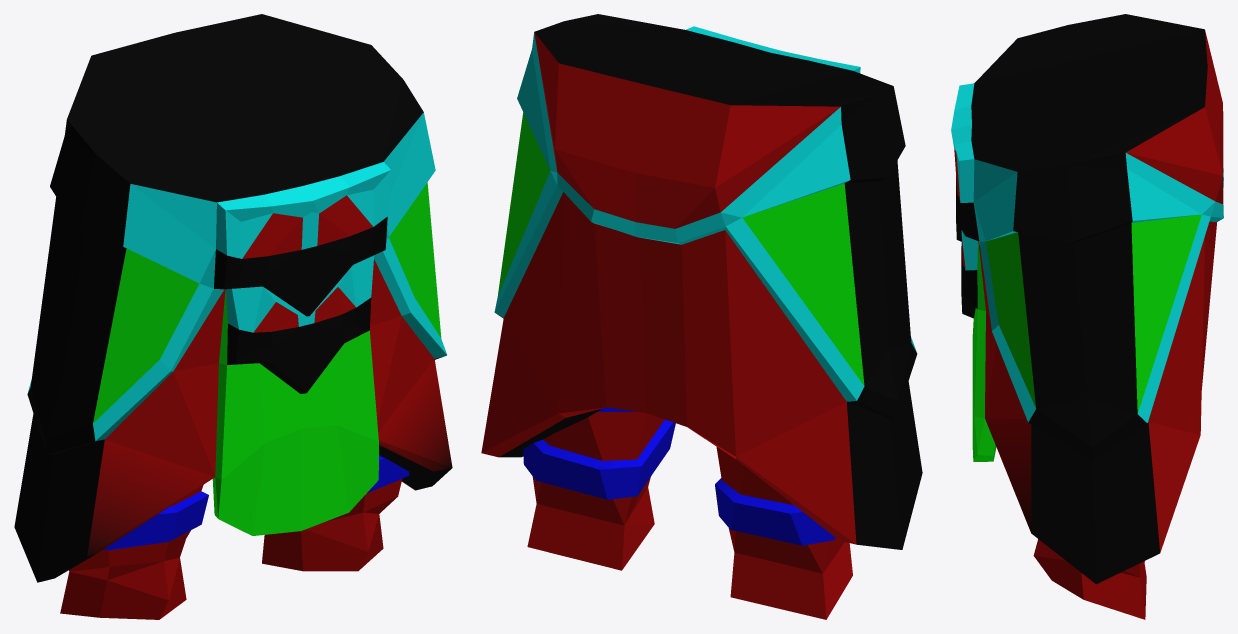
The model's file is Chr_Hips_Male_Static_16.fbx.
3 renders of one model, left to right at view 1: azimuth 30°, elevation 25°; view 2: azimuth 150°, elevation 25°; view 3: azimuth 270°, elevation 25°, orthographic. The views are drawn at different scales.
Parts seen in each view (by area): view 1: Chr_Hips_Male_16; view 2: Chr_Hips_Male_16; view 3: Chr_Hips_Male_16.
Boxes of the visible parts, left/top/right/bottom form: Chr_Hips_Male_16: left=14, top=14, right=452, bottom=619; Chr_Hips_Male_16: left=481, top=14, right=922, bottom=619; Chr_Hips_Male_16: left=951, top=14, right=1223, bottom=619.
Size of the model in its own units: 44.03 by 55.4 by 28.23.
